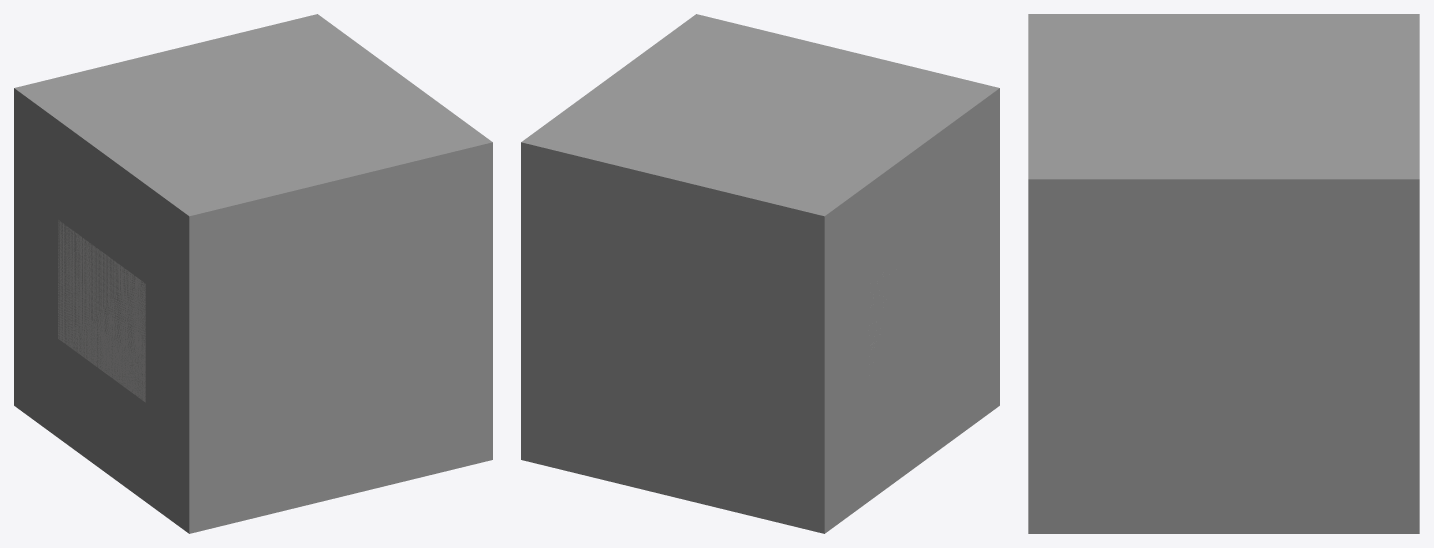
The model's file is electricaltimer.obj.
The picture shows the model from 3 angles, left to right: view 1: azimuth 30°, elevation 25°; view 2: azimuth 150°, elevation 25°; view 3: azimuth 270°, elevation 25°; orthographic projection. The views are drawn at different scales.
Visible parts, largest first — view 1: Minecraft_Block_Cube, main; view 2: Minecraft_Block_Cube; view 3: Minecraft_Block_Cube.
Boxes of the visible parts, x1,y1,x2,y2 form: Minecraft_Block_Cube: [14, 14, 492, 533]; main: [58, 220, 145, 402]; Minecraft_Block_Cube: [521, 14, 999, 533]; Minecraft_Block_Cube: [1028, 14, 1419, 533].
Bounding box in the file's own units: 1 × 1 × 1.
2 materials, 1 textured.
